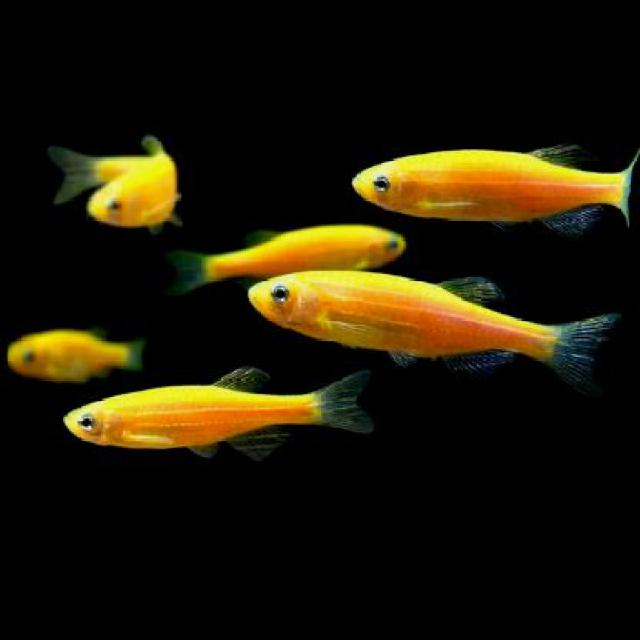ZebraFish: (250, 270, 618, 388), (54, 363, 374, 459), (350, 144, 638, 238)
